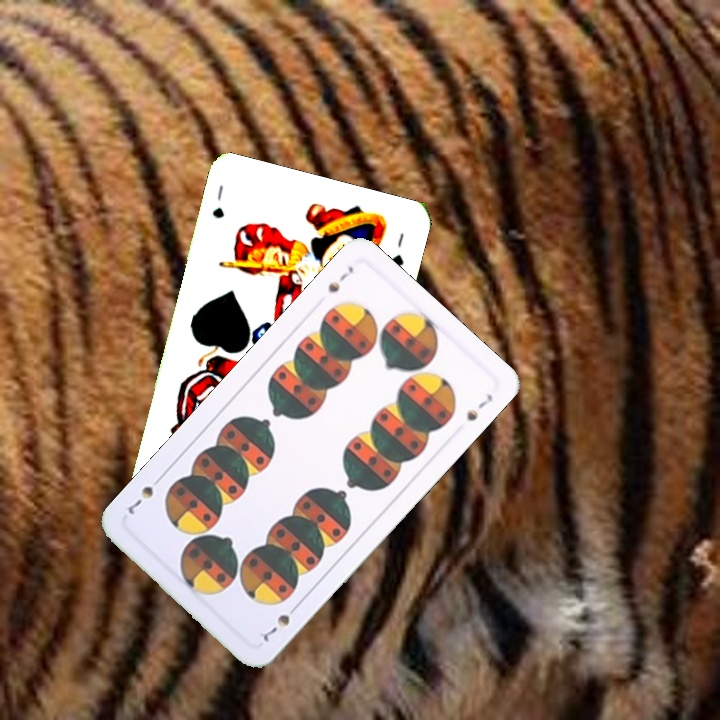GU: (208, 181, 227, 221)
S7: (259, 599, 302, 645), (323, 261, 356, 296)
